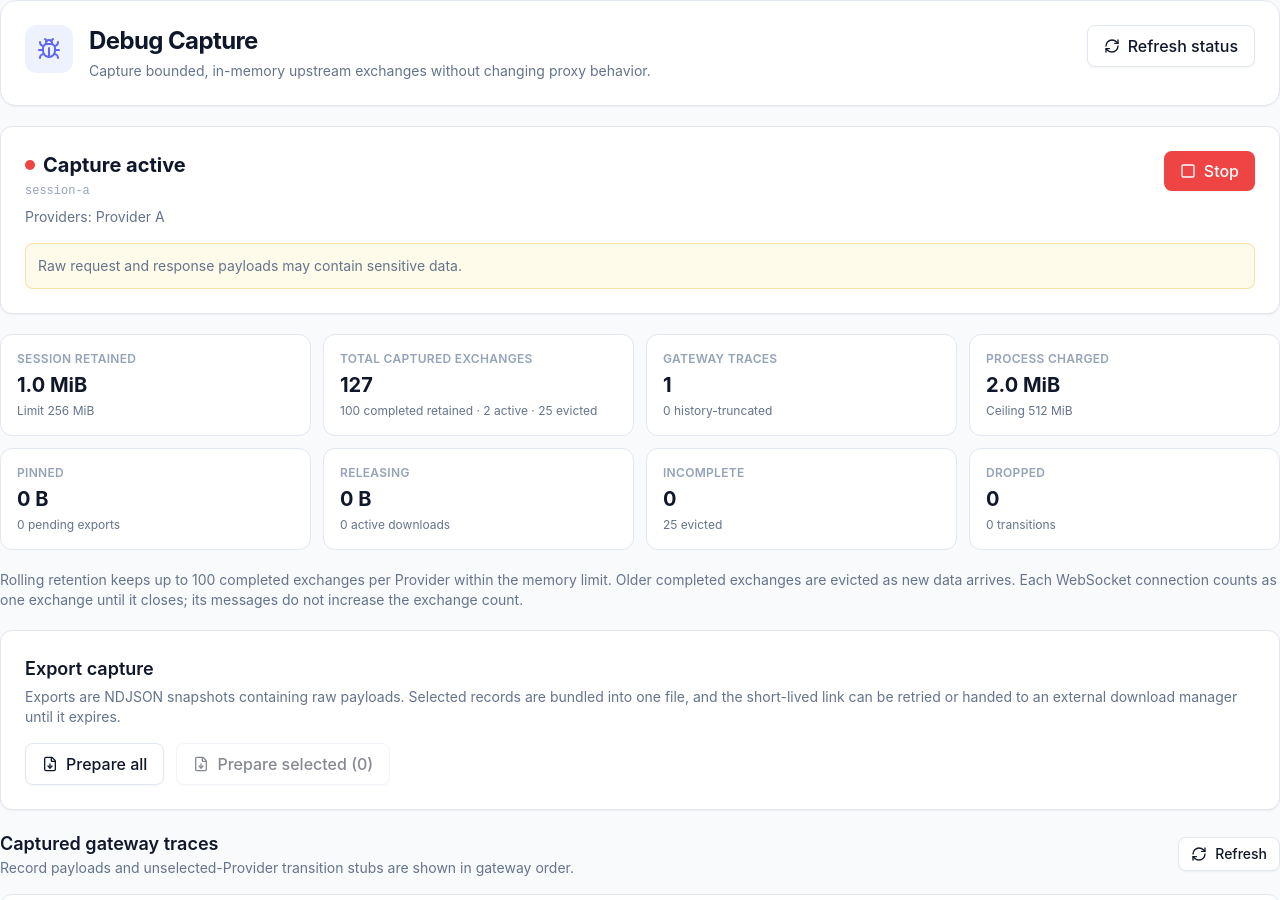
DebugCapturePage › distinguishes cumulative exchanges from retained records after eviction
Expected: the text "Rolling retention keeps up to 100" is shown, left=0, top=570, right=1279, bottom=610
Expected: the text "Each WebSocket connection counts as one exchange" is shown, left=0, top=571, right=1277, bottom=608
Click the button "Prepare all": (95, 764) left=25, top=743, right=164, bottom=785
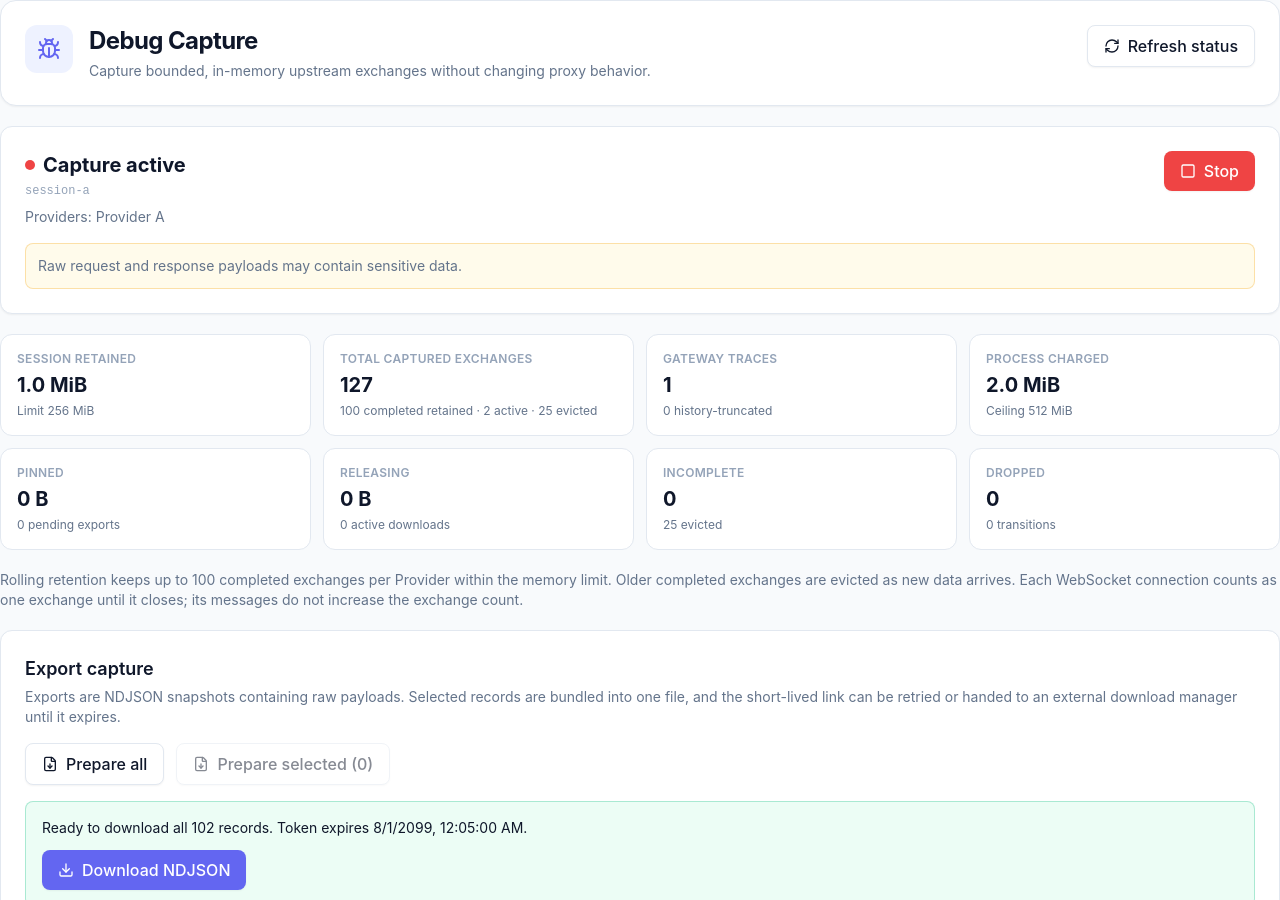
Expected: the text "Ready to download all 102 records" is shown, left=42, top=819, right=527, bottom=836
